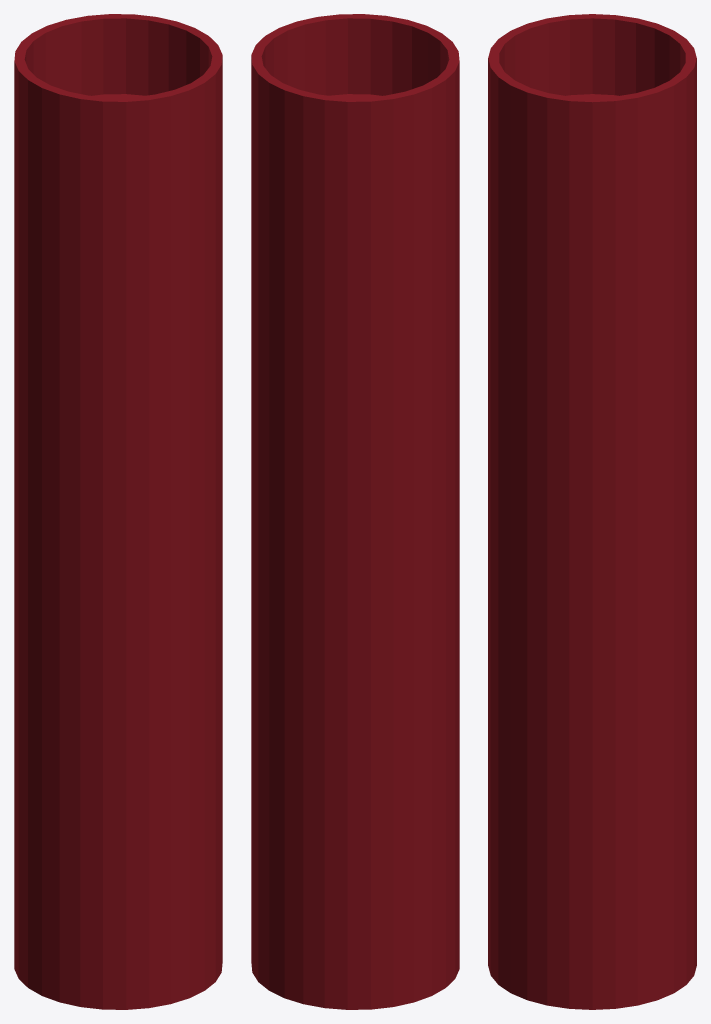
File: can.dae
3 renders of one model, left to right at view 1: azimuth 30°, elevation 25°; view 2: azimuth 150°, elevation 25°; view 3: azimuth 270°, elevation 25°, orthographic.
Parts seen in each view (by area): view 1: node; view 2: node; view 3: node.
Part boxes in pixels (<box>): node: <box>14,14,222,1009</box>; node: <box>251,14,459,1009</box>; node: <box>488,14,696,1009</box>.
Size of the model in its own units: 0.025 by 0.025 by 0.12.
